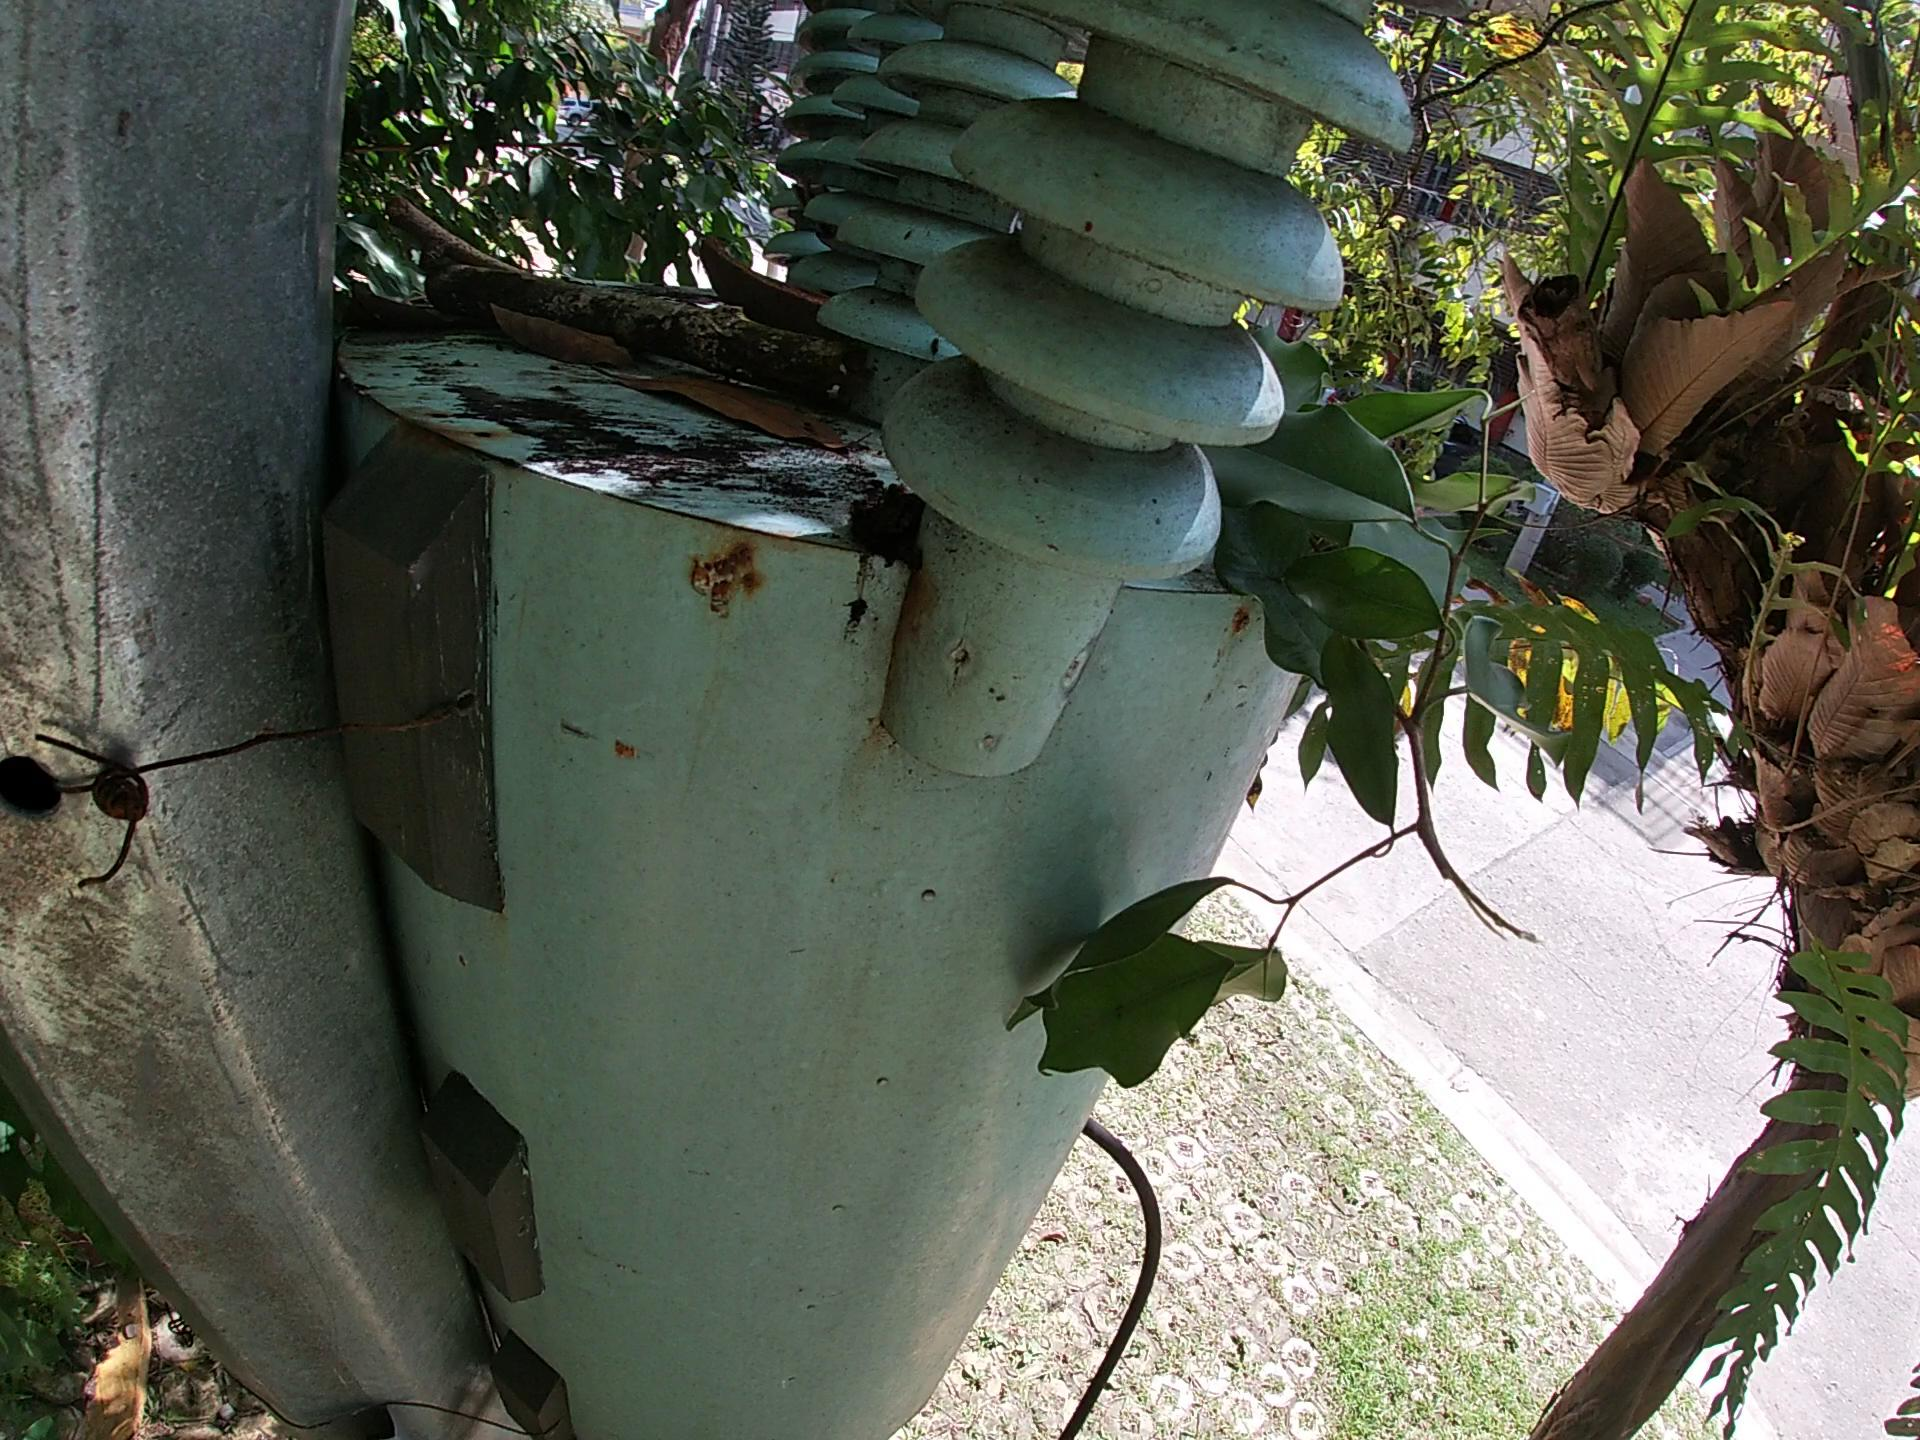branch with leaves: (1002, 307, 1548, 1092)
leaf: (591, 357, 872, 461), (475, 290, 643, 380), (339, 271, 441, 331)
mahogany fruit: (691, 237, 835, 334)
tree branch: (420, 256, 872, 408), (381, 192, 516, 275)
